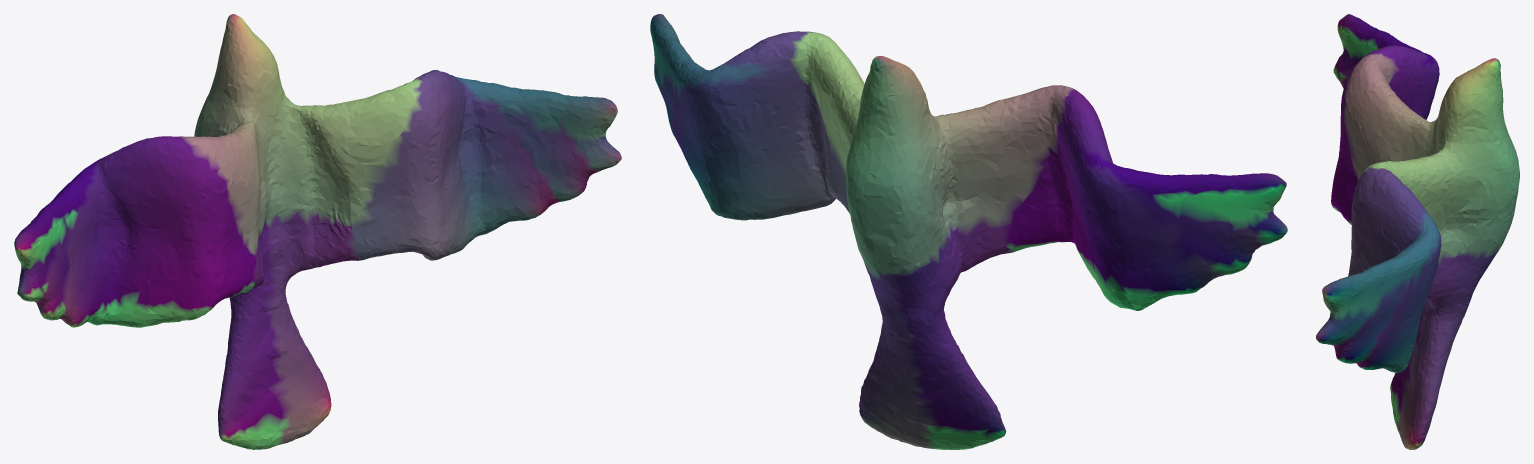
File: bird1-3.off.obj
The picture shows the model from 3 angles, left to right: view 1: azimuth 30°, elevation 25°; view 2: azimuth 150°, elevation 25°; view 3: azimuth 270°, elevation 25°; orthographic projection. The views are drawn at different scales.
Bounding box in the file's own units: 1.7 × 1.08 × 0.5283.
